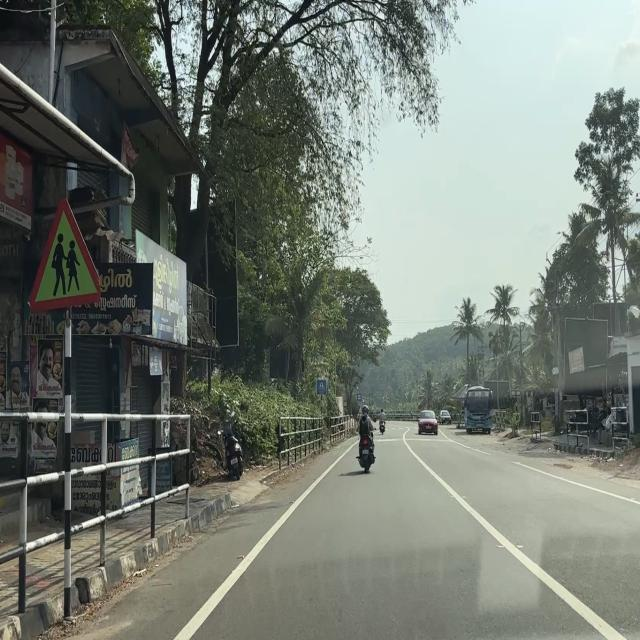SCHOOL_AHEAD: (23, 188, 106, 312)
